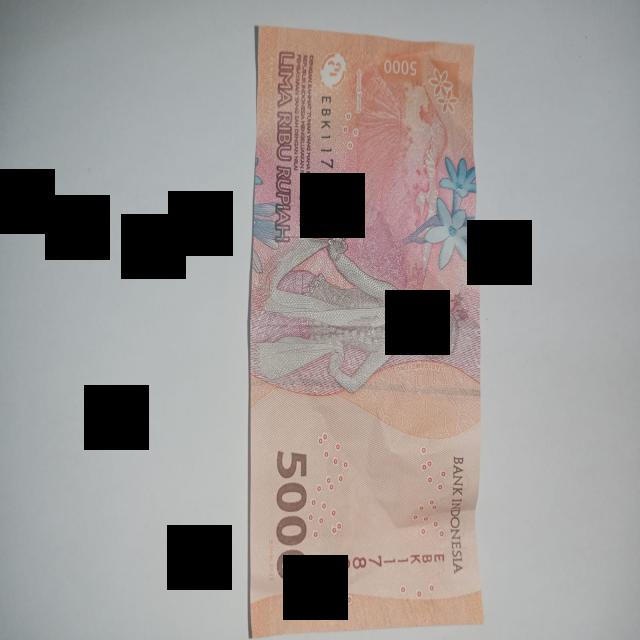lima ribu rupiah: (249, 25, 484, 640)
